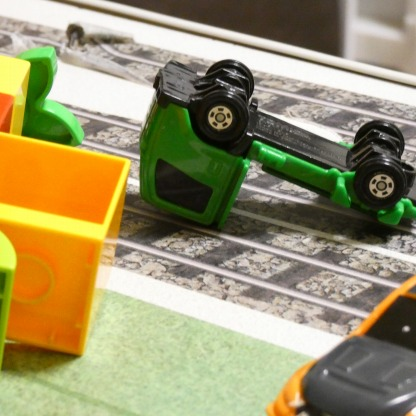car: (133, 53, 416, 249), (267, 269, 416, 416)
